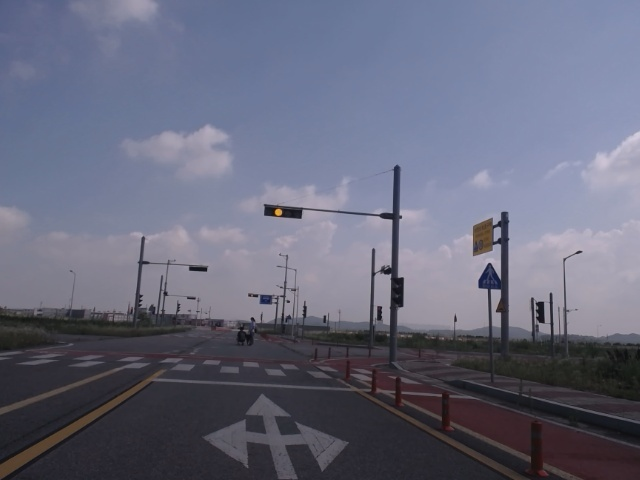orange_4: (263, 204, 303, 217)
